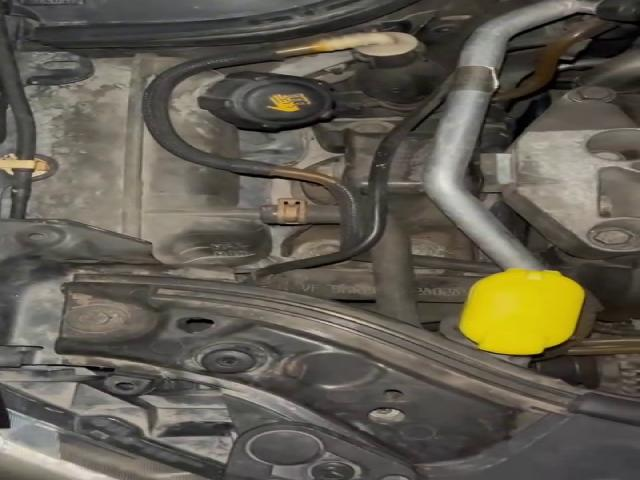antifreeze_tank: (33, 55, 273, 267), (170, 70, 336, 157)
